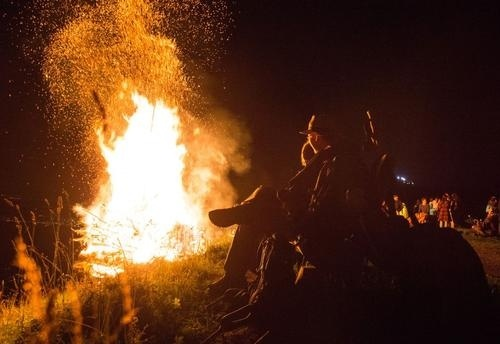fire: (76, 88, 212, 265)
